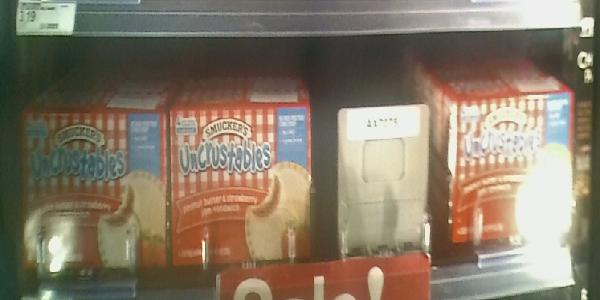icecream: (17, 99, 166, 275), (172, 108, 325, 271), (436, 81, 570, 250)
